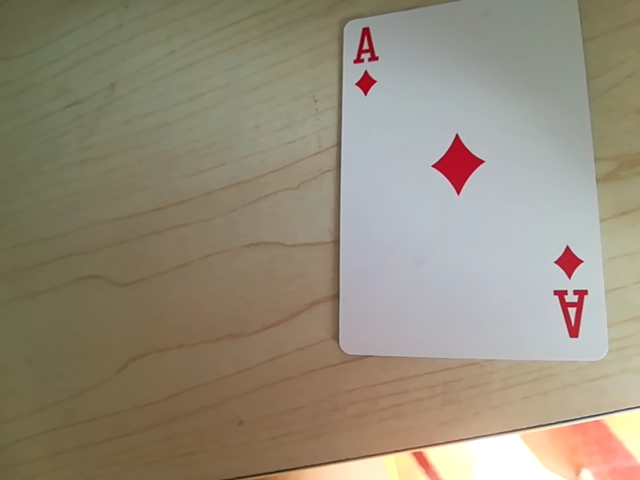fk a: (553, 260, 592, 338), (345, 25, 388, 95)
